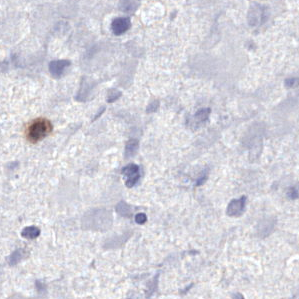Lymphocyte: (22, 117, 54, 143)
